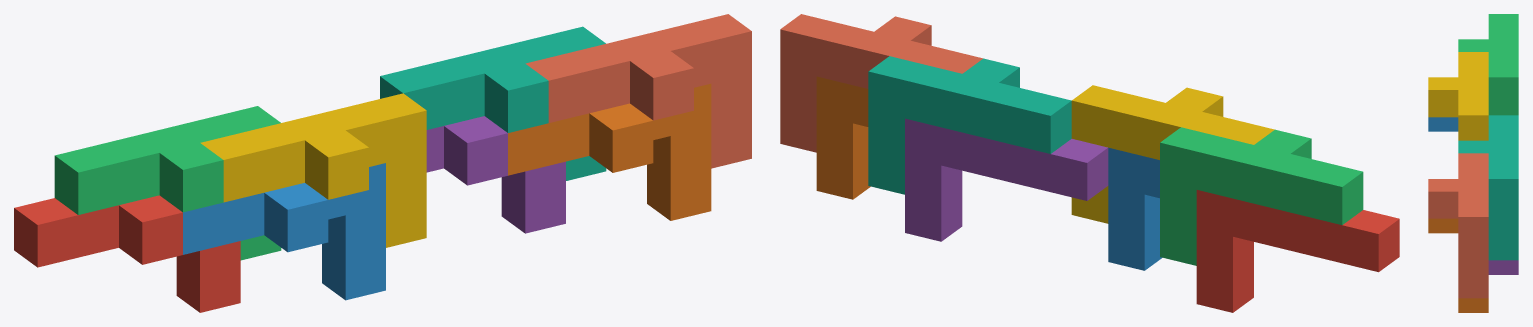
The model's file is tiling.obj.
3 renders of one model, left to right at view 1: azimuth 30°, elevation 25°; view 2: azimuth 150°, elevation 25°; view 3: azimuth 270°, elevation 25°, orthographic. The views are drawn at different scales.
Visible parts, largest first — view 1: copy_1_domain_4, copy_1_domain_8, copy_1_domain_6, copy_1_domain_2, copy_1_domain_3, copy_1_domain_1, copy_1_domain_7, copy_1_domain_5; view 2: copy_1_domain_3, copy_1_domain_7, copy_1_domain_1, copy_1_domain_5, copy_1_domain_8, copy_1_domain_4, copy_1_domain_6, copy_1_domain_2; view 3: copy_1_domain_8, copy_1_domain_7, copy_1_domain_4, copy_1_domain_3, copy_1_domain_6, copy_1_domain_2, copy_1_domain_5.
Part boxes in pixels (x1,y1,x2,y2): copy_1_domain_4: (200, 93, 426, 247); copy_1_domain_8: (525, 14, 751, 168); copy_1_domain_6: (508, 83, 711, 220); copy_1_domain_2: (183, 163, 385, 300); copy_1_domain_3: (54, 106, 281, 260); copy_1_domain_1: (14, 195, 240, 312); copy_1_domain_7: (380, 26, 606, 180); copy_1_domain_5: (426, 116, 565, 233); copy_1_domain_3: (1160, 127, 1363, 265); copy_1_domain_7: (868, 56, 1071, 194); copy_1_domain_1: (1196, 190, 1399, 312); copy_1_domain_5: (905, 118, 1108, 241); copy_1_domain_8: (780, 14, 982, 152); copy_1_domain_4: (1071, 85, 1274, 223); copy_1_domain_6: (816, 76, 870, 199); copy_1_domain_2: (1108, 147, 1162, 270); copy_1_domain_8: (1428, 153, 1488, 298); copy_1_domain_7: (1458, 115, 1518, 260); copy_1_domain_4: (1428, 52, 1488, 140); copy_1_domain_3: (1458, 14, 1518, 115); copy_1_domain_6: (1428, 218, 1488, 312); copy_1_domain_2: (1428, 117, 1458, 131); copy_1_domain_5: (1488, 260, 1518, 274).
Size of the model in its own units: 17 by 4 by 3.
